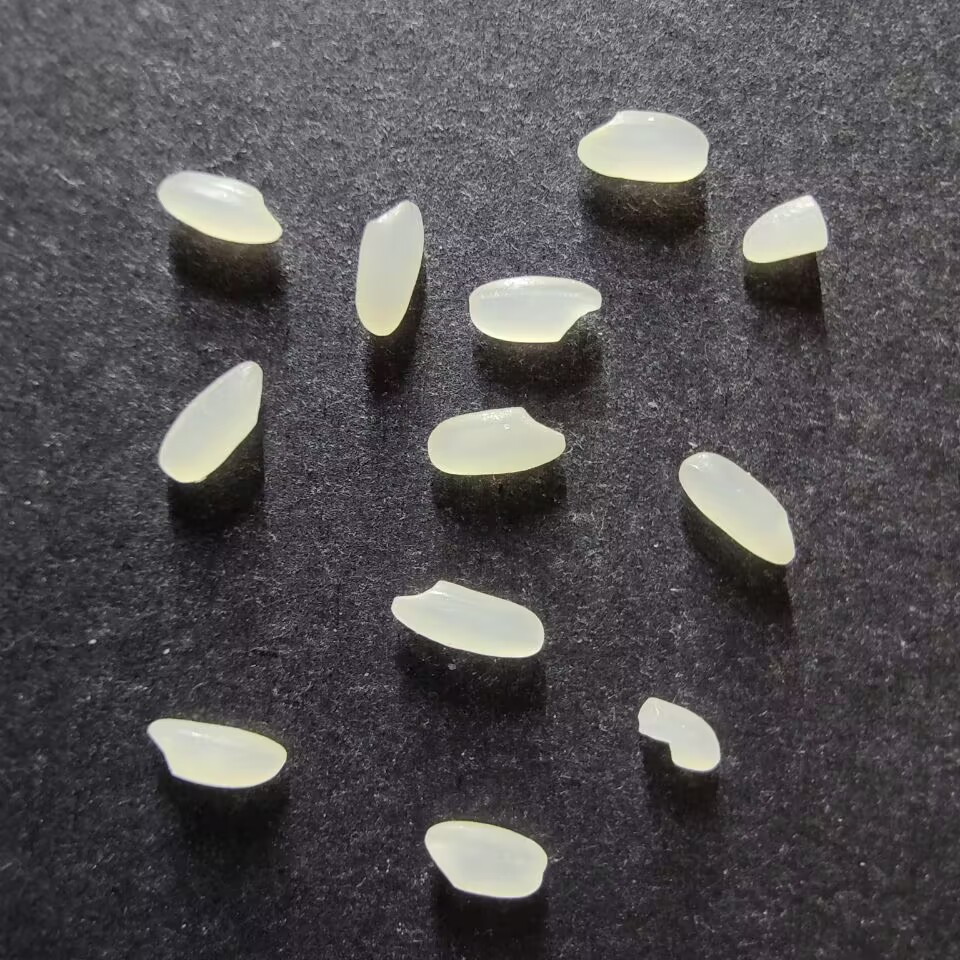broken: (636, 693, 723, 773), (741, 193, 830, 263)
rice: (676, 450, 797, 567), (156, 358, 264, 486), (388, 577, 545, 659), (144, 716, 289, 790), (422, 818, 548, 901), (574, 108, 710, 183), (353, 196, 425, 337), (425, 405, 567, 476), (155, 170, 283, 246), (466, 274, 603, 345)
